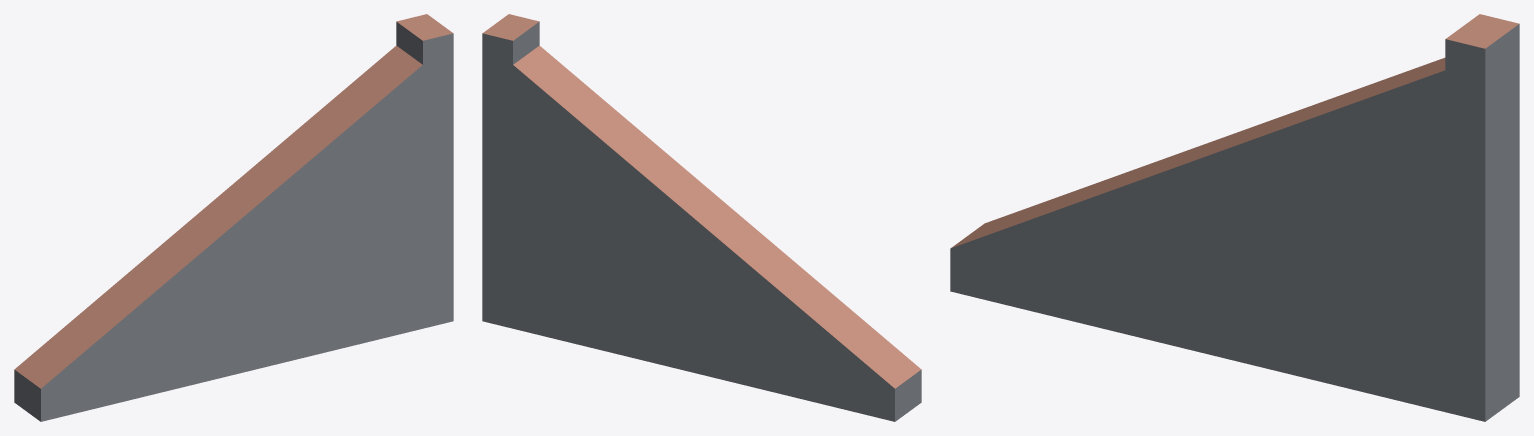
File: ramp-surface.glb
The picture shows the model from 3 angles, left to right: view 1: azimuth 30°, elevation 25°; view 2: azimuth 150°, elevation 25°; view 3: azimuth 330°, elevation 25°; orthographic projection. The views are drawn at different scales.
Visible parts, largest first — view 1: Finish_floor_concrete, Finish_floor_granite; view 2: Finish_floor_concrete, Finish_floor_granite; view 3: Finish_floor_concrete, Finish_floor_granite.
Boxes of the visible parts, left/top/right/bottom form: Finish_floor_concrete: left=14, top=21, right=453, bottom=421; Finish_floor_granite: left=14, top=14, right=452, bottom=388; Finish_floor_concrete: left=482, top=21, right=921, bottom=421; Finish_floor_granite: left=483, top=14, right=921, bottom=388; Finish_floor_concrete: left=950, top=24, right=1519, bottom=421; Finish_floor_granite: left=951, top=14, right=1518, bottom=247.
Bounding box in the file's own units: 9 × 6 × 1.
